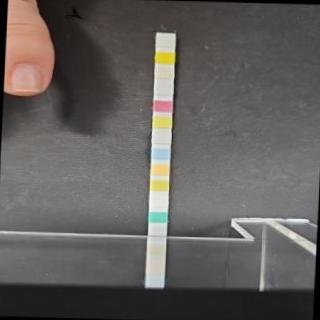mark: (154, 50, 174, 64), (152, 100, 172, 114), (148, 210, 168, 223), (155, 65, 173, 79), (154, 82, 172, 96), (150, 178, 168, 192), (155, 35, 174, 48), (150, 163, 169, 176), (150, 148, 170, 160), (149, 195, 169, 207), (152, 116, 171, 128), (152, 132, 171, 144)
